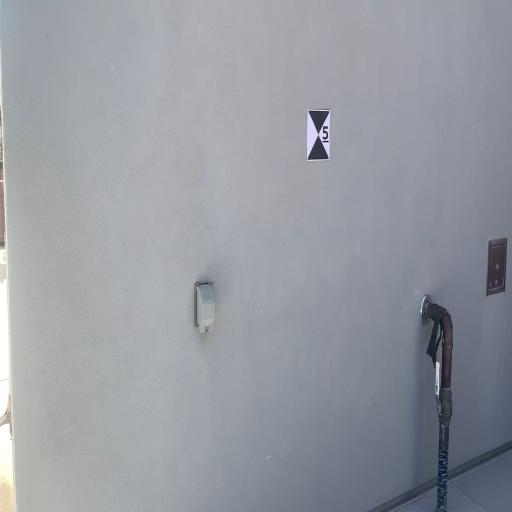target5: (307, 109, 330, 161)
